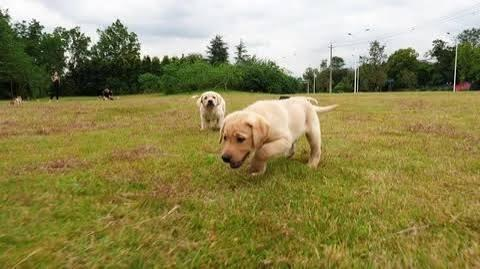adult_dog: (196, 91, 226, 134)
non-dog: (49, 70, 60, 102)
puppy-dog: (216, 96, 341, 174)
